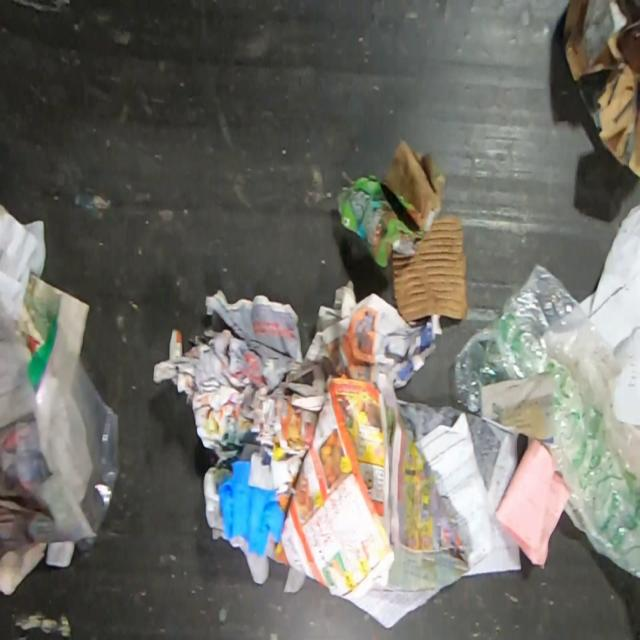cardboard: (332, 139, 446, 268), (560, 0, 640, 181), (391, 212, 468, 321)
soft_plastic: (452, 260, 640, 583), (22, 309, 122, 536), (75, 536, 97, 560)
